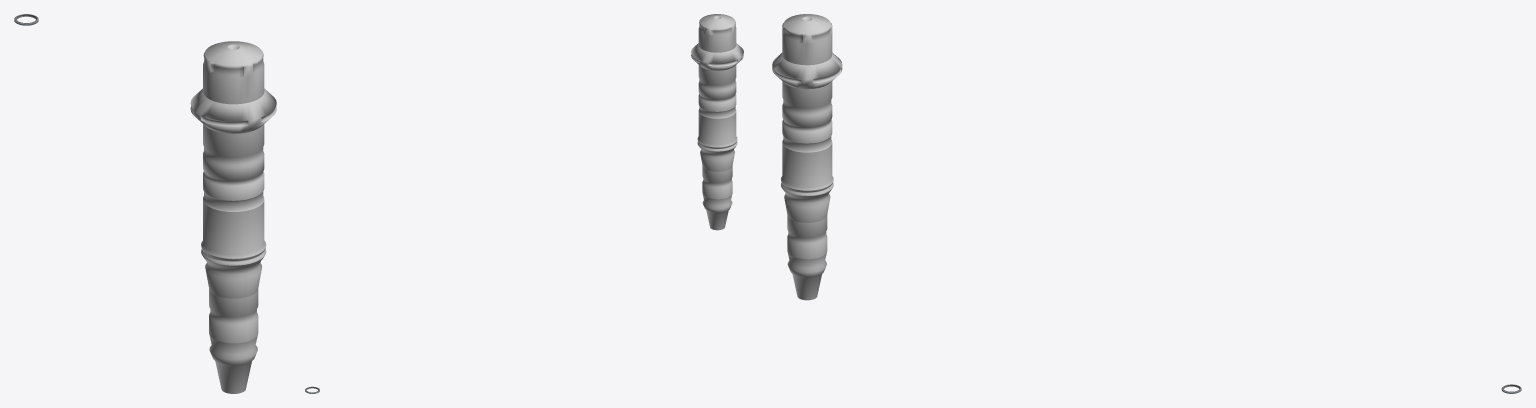
Rendered from Pilier Principal.FBX.
3 renders of one model, left to right at view 1: azimuth 30°, elevation 25°; view 2: azimuth 150°, elevation 25°; view 3: azimuth 270°, elevation 25°, orthographic. The views are drawn at different scales.
Visible parts, largest first — view 1: Cylindre; view 2: Cylindre; view 3: Cylindre.
Boxes of the visible parts, x1,y1,x2,y2 form: Cylindre: [190, 41, 276, 393]; Cylindre: [691, 14, 743, 230]; Cylindre: [772, 14, 842, 300].
Size of the model in its own units: 32717 by 39452 by 95214.
